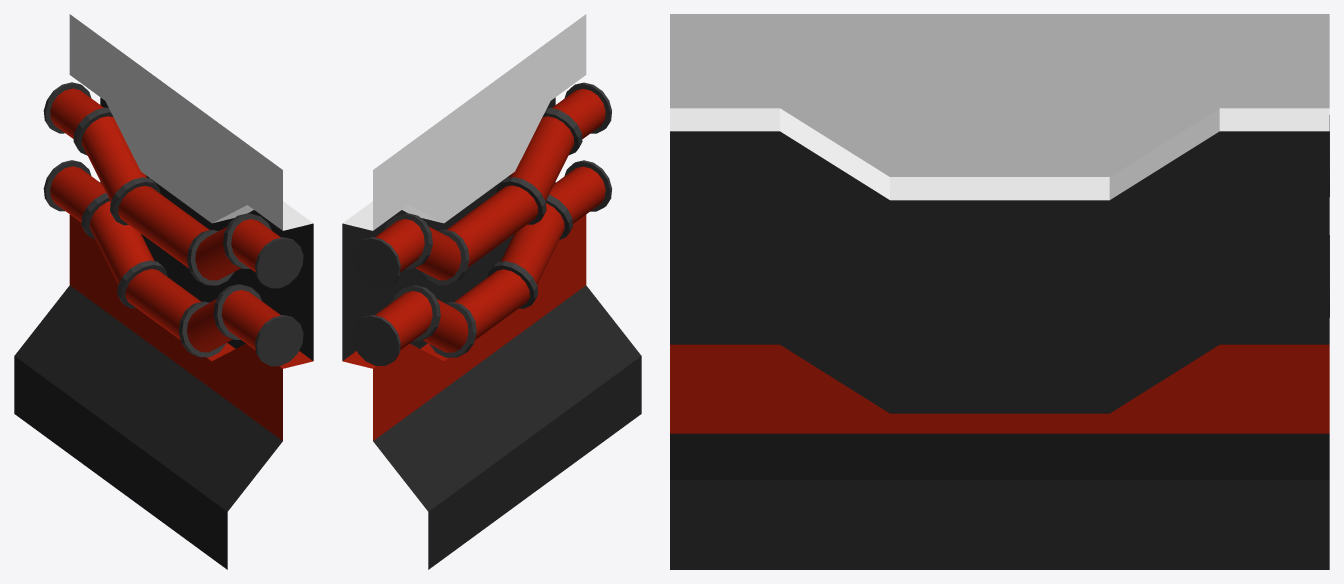
The model's file is S_assete_basement_wall_4.fbx.
The picture shows the model from 3 angles, left to right: view 1: azimuth 30°, elevation 25°; view 2: azimuth 150°, elevation 25°; view 3: azimuth 270°, elevation 25°; orthographic projection. The views are drawn at different scales.
Visible parts, largest first — view 1: S_basement_wall_4; view 2: S_basement_wall_4; view 3: S_basement_wall_4.
Part boxes in pixels (x1=…): S_basement_wall_4: x1=14, y1=14, x2=313, y2=569; S_basement_wall_4: x1=342, y1=14, x2=641, y2=569; S_basement_wall_4: x1=670, y1=14, x2=1329, y2=569.
Size of the model in its own units: 46.59 by 200 by 200.
